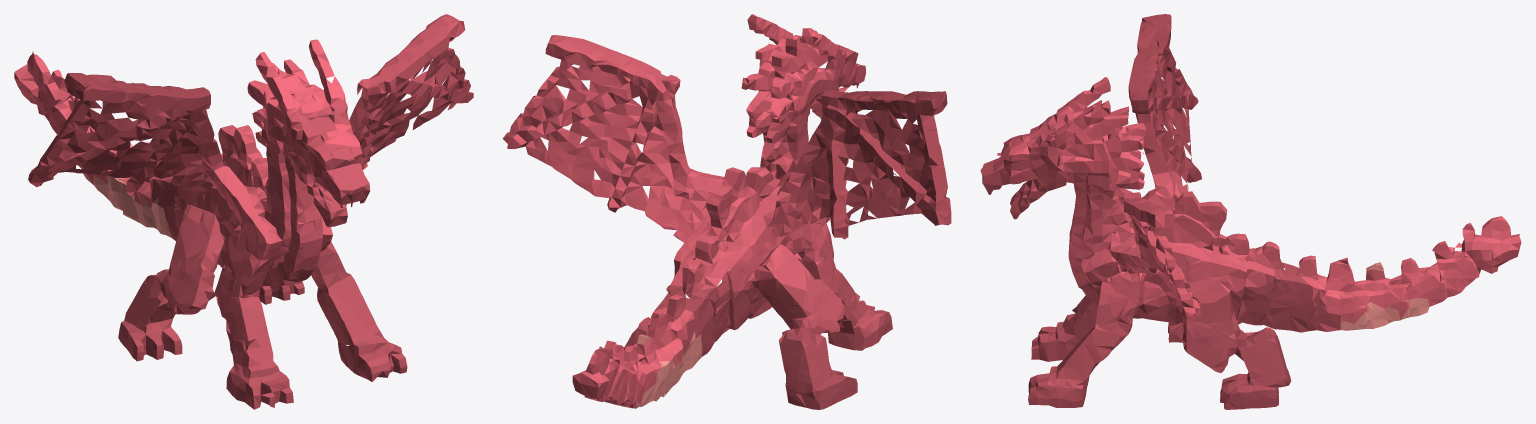
Rendered from dragon.glb.
3 renders of one model, left to right at view 1: azimuth 30°, elevation 25°; view 2: azimuth 150°, elevation 25°; view 3: azimuth 270°, elevation 25°, orthographic. The views are drawn at different scales.
Parts seen in each view (by area): view 1: part_4, part_0, part_2, part_1, part_6, part_5, part_7, part_8, part_3; view 2: part_1, part_2, part_0, part_5, part_8, part_7, part_4, part_6, part_3; view 3: part_2, part_5, part_8, part_4, part_0, part_6, part_7, part_1, part_3.
Boxes of the visible parts, <box> form: part_4: <box>161,250,407,409</box>; part_0: <box>28,73,219,196</box>; part_2: <box>161,125,337,272</box>; part_1: <box>349,14,473,169</box>; part_6: <box>255,101,370,227</box>; part_5: <box>118,176,304,361</box>; part_7: <box>247,39,359,146</box>; part_8: <box>14,51,167,205</box>; part_3: <box>82,142,171,237</box>; part_1: <box>502,35,685,212</box>; part_2: <box>635,152,830,297</box>; part_0: <box>792,90,951,239</box>; part_5: <box>624,276,857,409</box>; part_8: <box>572,294,694,408</box>; part_7: <box>741,14,837,137</box>; part_4: <box>748,230,892,350</box>; part_6: <box>756,35,865,159</box>; part_3: <box>612,331,702,408</box>; part_2: <box>1068,171,1282,320</box>; part_5: <box>1160,259,1340,409</box>; part_8: <box>1299,216,1521,323</box>; part_4: <box>1028,283,1201,407</box>; part_0: <box>1128,14,1201,183</box>; part_6: <box>980,115,1144,231</box>; part_7: <box>1008,77,1146,189</box>; part_1: <box>1123,192,1200,317</box>; part_3: <box>1340,262,1429,330</box>.
Size of the model in its own units: 1.62 by 1.11 by 1.89.
